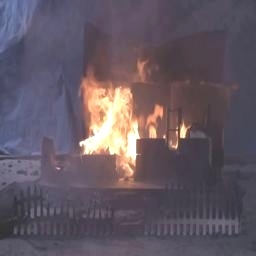fire: (77, 44, 158, 166)
